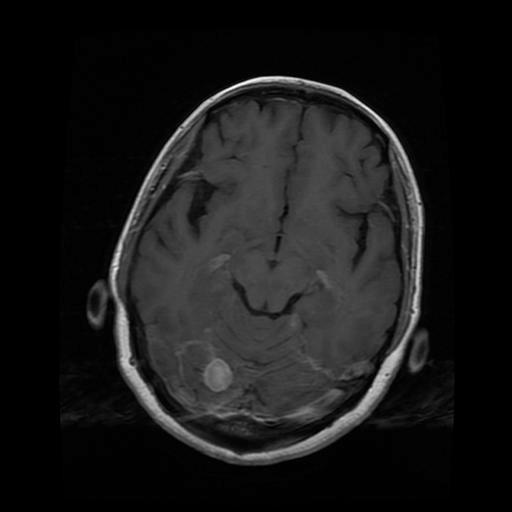Tumour-Meningioma: (179, 349, 244, 390)
